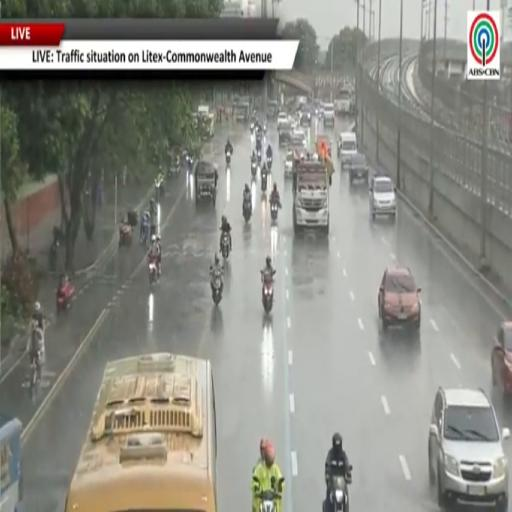bus: (65, 354, 217, 511), (0, 414, 25, 511)
car: (429, 388, 510, 511), (378, 265, 421, 330), (492, 322, 511, 394), (369, 176, 396, 220), (348, 153, 368, 185), (279, 122, 292, 146), (323, 102, 335, 127), (298, 105, 311, 126), (292, 130, 307, 148), (285, 150, 293, 178), (277, 111, 288, 129)
jeepney: (195, 160, 218, 204), (198, 106, 214, 139), (316, 135, 332, 157), (234, 102, 250, 122), (268, 101, 279, 119)
motorcycle: (323, 475, 349, 511), (256, 478, 284, 511), (49, 227, 62, 271), (57, 280, 74, 313), (262, 270, 275, 313), (30, 350, 42, 394), (211, 272, 223, 305), (119, 223, 133, 248), (49, 239, 59, 271), (167, 156, 181, 178), (220, 232, 230, 259), (141, 217, 149, 246), (243, 199, 252, 222), (149, 261, 158, 284), (154, 179, 163, 200), (271, 201, 279, 221), (261, 171, 267, 194), (186, 154, 193, 172), (251, 162, 257, 179), (226, 152, 231, 168), (267, 156, 272, 171), (262, 123, 268, 134), (257, 150, 261, 163), (250, 122, 254, 133)
tricycle: (57, 276, 74, 314)
truck: (293, 158, 329, 234), (335, 88, 353, 116)
